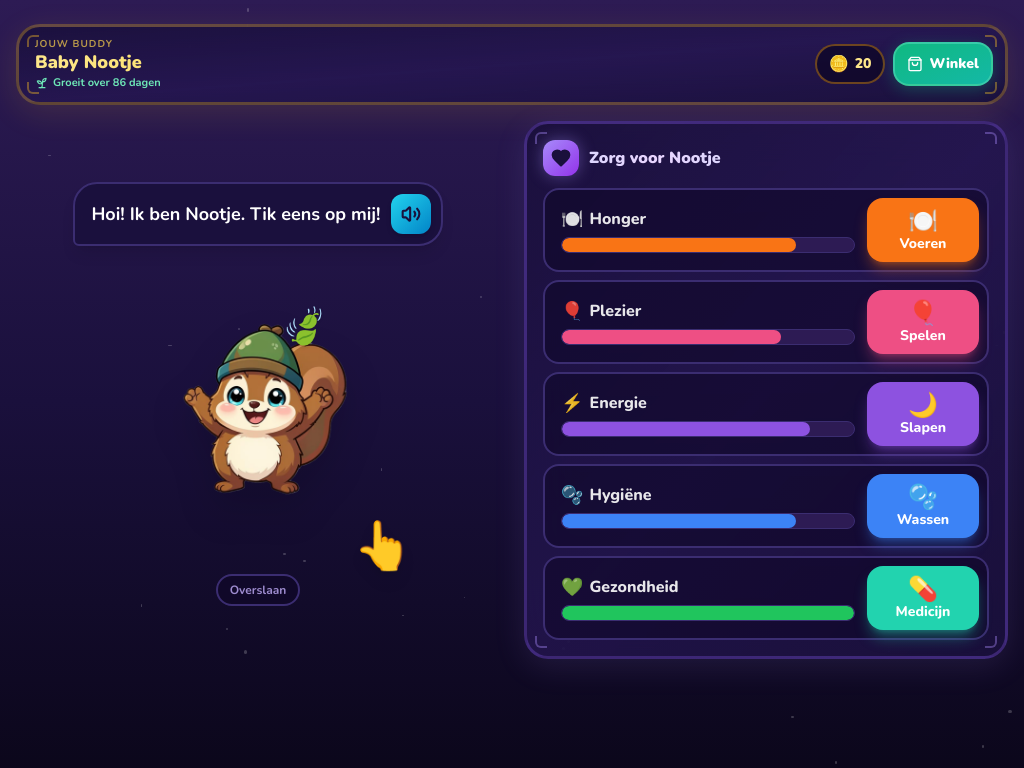
Test: BuddyRoom — first-visit tour › walks from tapping the Buddy to feeding it to the closing step
Later steps or results of the test are not shown.
Click the button named "Tik op Nootje". click: (258, 410)
box: [114,262,402,557]
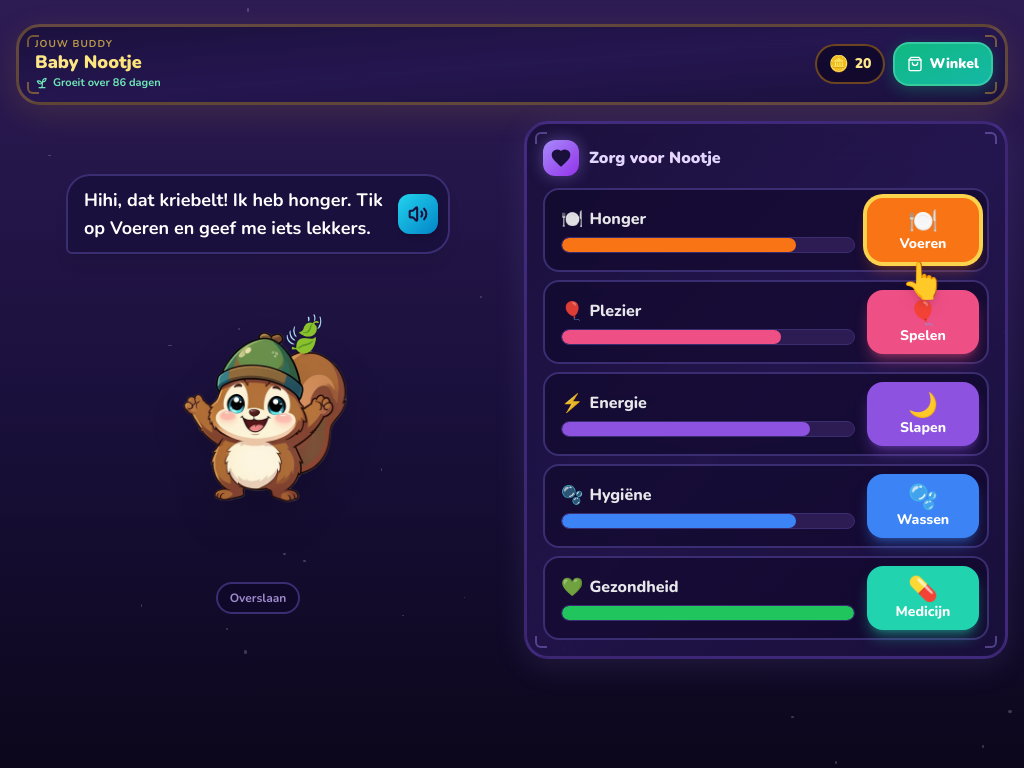
Expected: the button with aria-label "Lees voor" shows "Tik op Voeren", [66,174,450,254]
